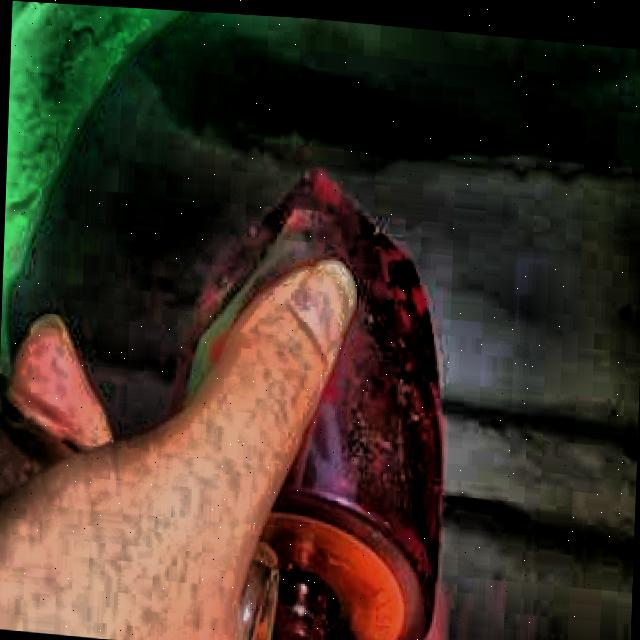glass: (177, 171, 441, 640), (179, 171, 441, 640)
